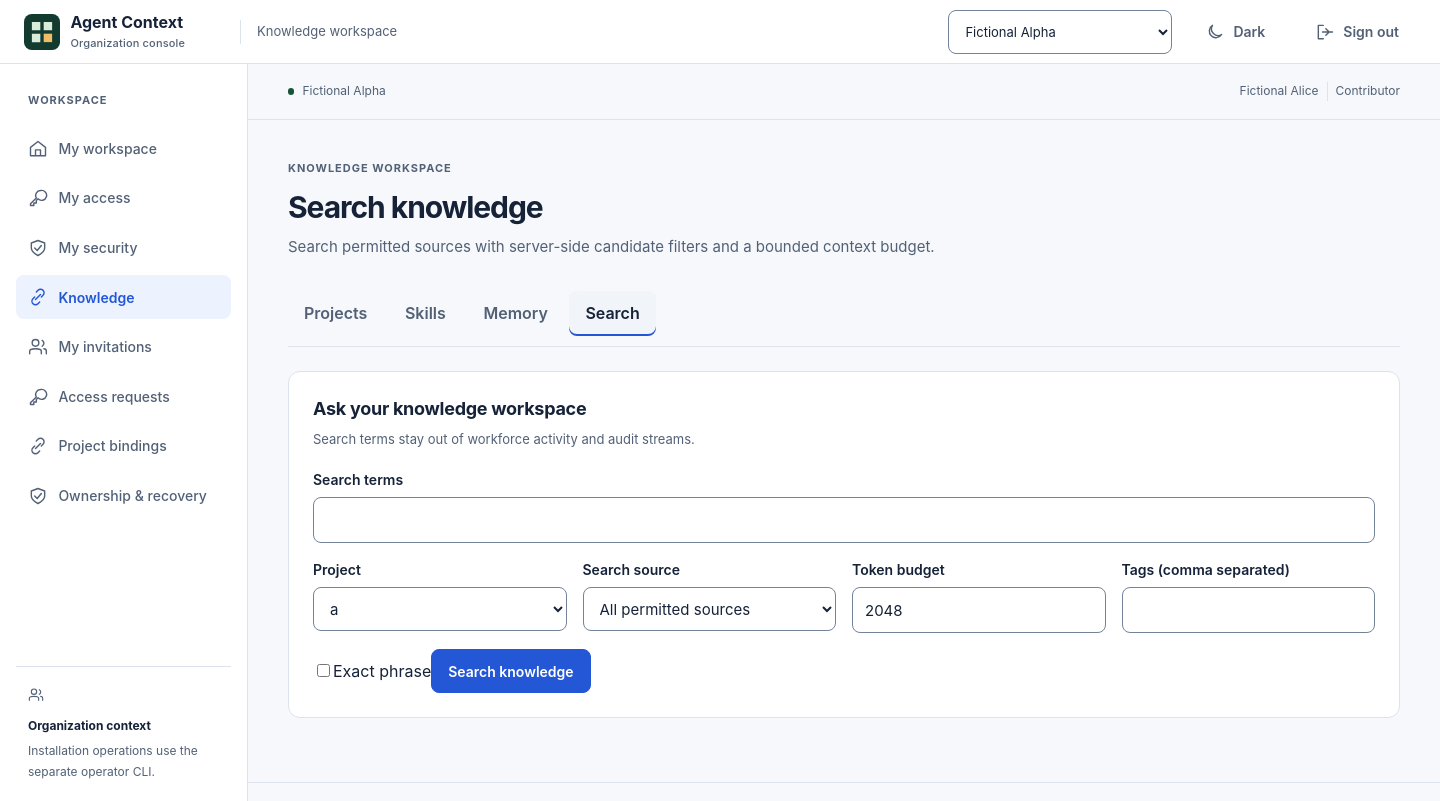
Test case: knowledge search › posts only session APIs with explicit source/filter/budget and real provenance
Type "isolation" into the field labelled "Search terms" at (844, 520), box [313,497,1375,543]
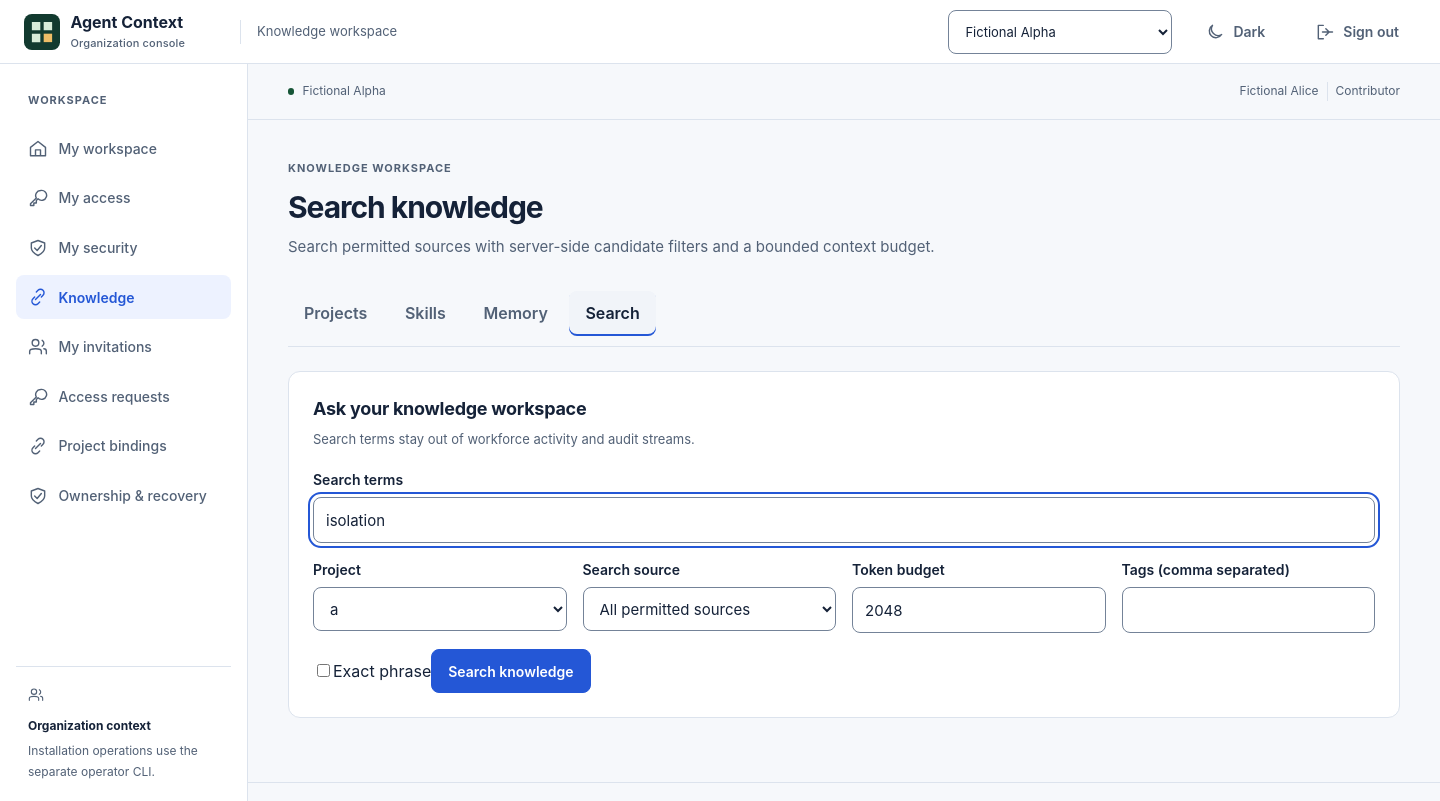
Select "Project context" in the dropdown labelled "Search source" at (709, 609), box [582,587,836,631]
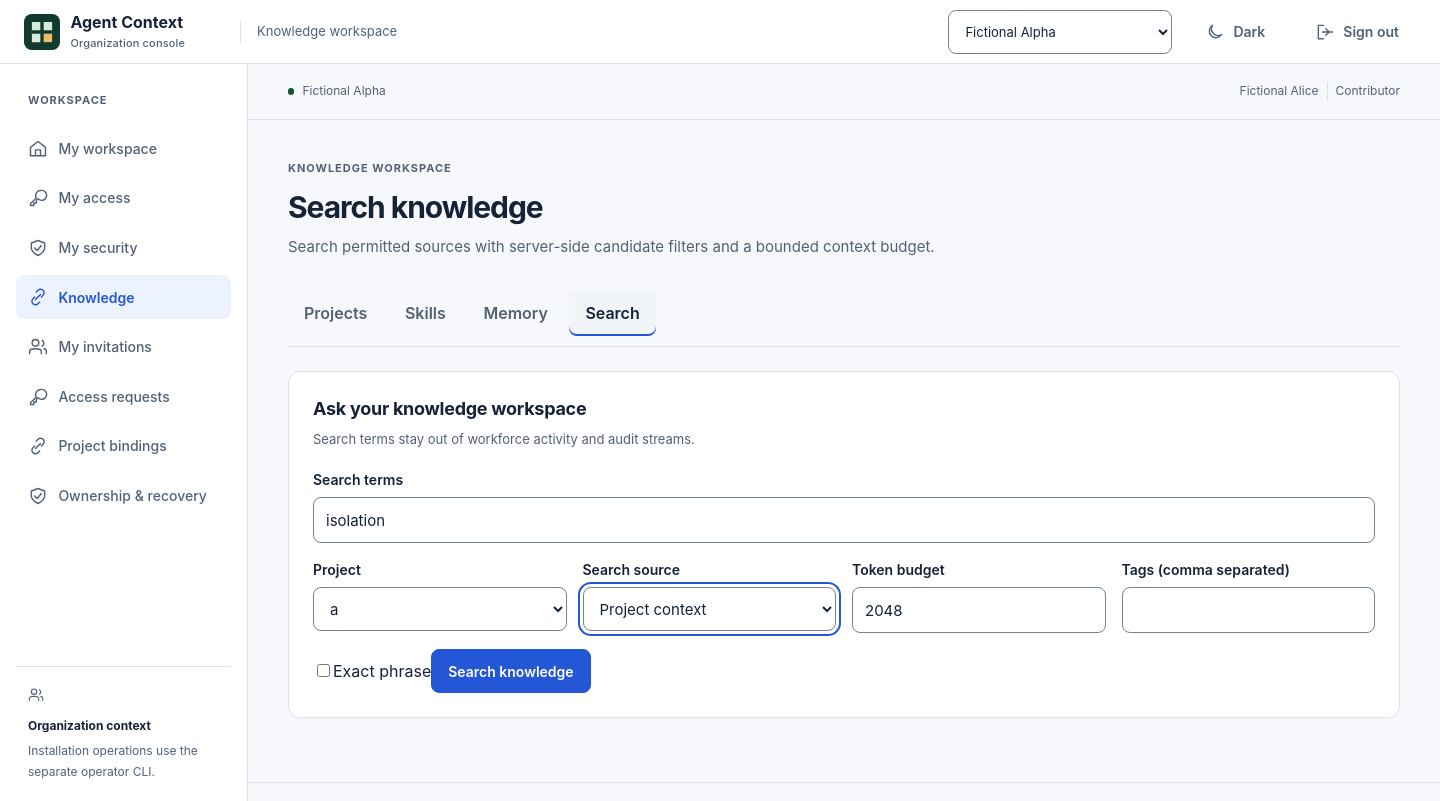
Click the button "Search knowledge" at (511, 671), box [431,649,591,693]
(page scrolled)
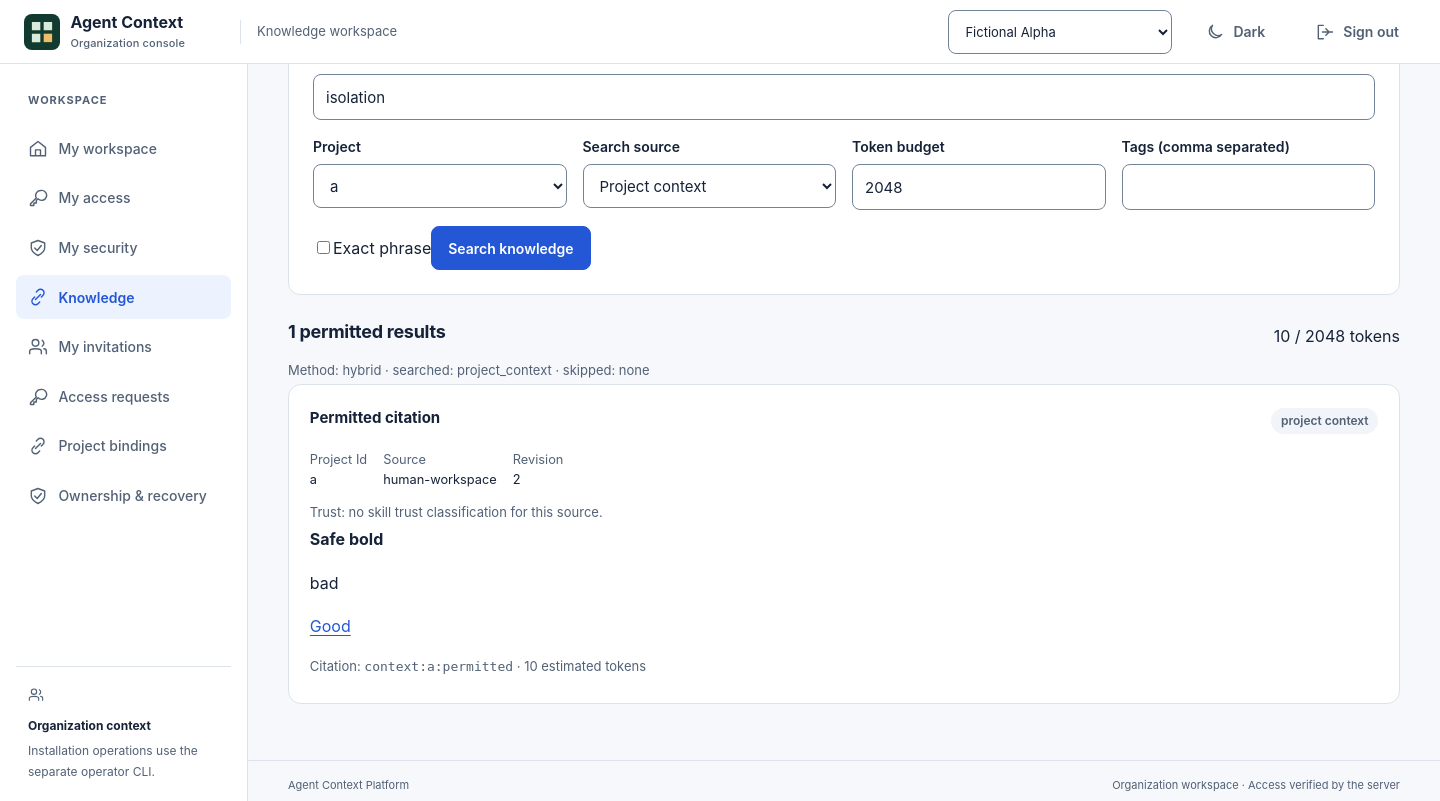
Expected: the heading "1 permitted results" is shown, [288,319,446,345]
Expected: the text "context:a:permitted" is shown, [364,659,513,674]
